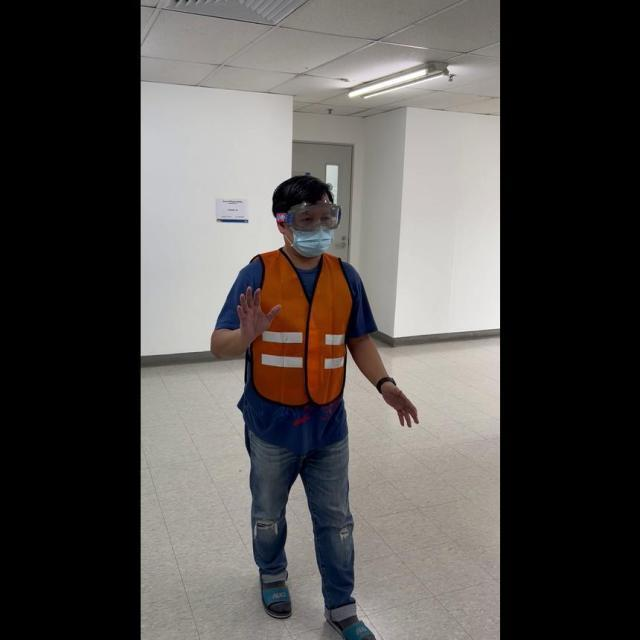bare_hand: (232, 280, 279, 339), (377, 383, 418, 427)
